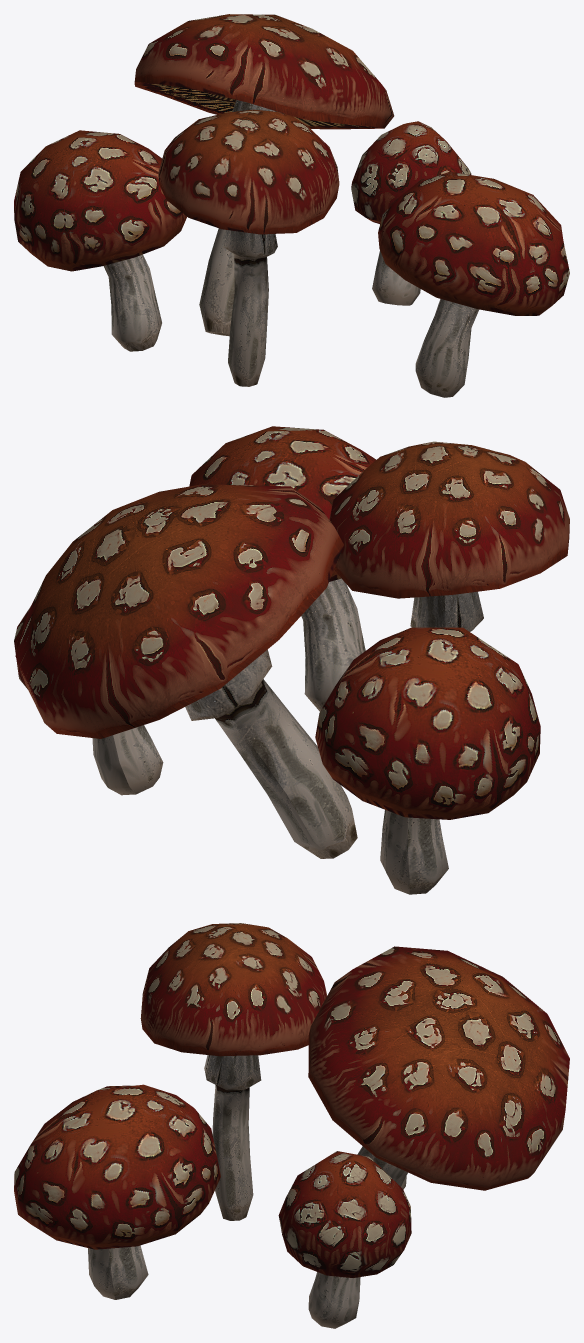
Rendered from mushroom_1_group_3.fbx.
The picture shows the model from 3 angles, top to bottom: view 1: azimuth 30°, elevation 25°; view 2: azimuth 150°, elevation 25°; view 3: azimuth 270°, elevation 25°; orthographic projection. The views are drawn at different scales.
Parts seen in each view (by area): view 1: Mushroom_1_Group_3; view 2: Mushroom_1_Group_3; view 3: Mushroom_1_Group_3.
Part boxes in pixels (x1,y1,x2,y2): Mushroom_1_Group_3: [14, 14, 569, 397]; Mushroom_1_Group_3: [14, 426, 569, 894]; Mushroom_1_Group_3: [14, 923, 569, 1328].
Bounding box in the file's own units: 1.25 × 0.836 × 1.4.
